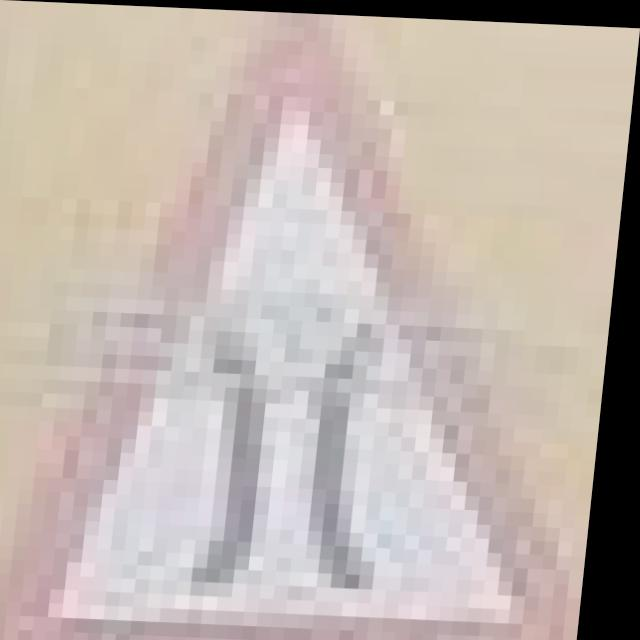NARROW_BRIDGE: (0, 1, 626, 640)
